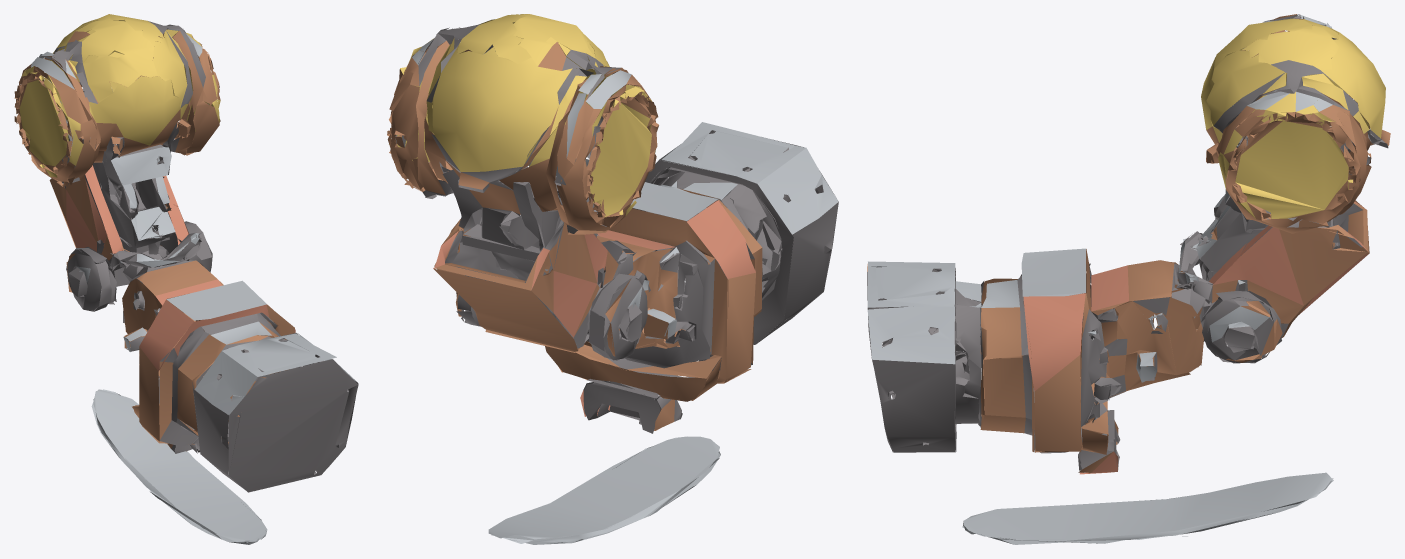
The model's file is ar_hammer.glb.
3 views of the same model, side by side, from view 1: azimuth 30°, elevation 25°; view 2: azimuth 150°, elevation 25°; view 3: azimuth 270°, elevation 25° (orthographic). The views are drawn at different scales.
Parts seen in each view (by area): view 1: ar_hammer; view 2: ar_hammer; view 3: ar_hammer.
Part boxes in pixels (x1,y1,x2,y2): ar_hammer: (14,14,358,544); ar_hammer: (387,14,838,544); ar_hammer: (867,14,1390,544).
Size of the model in its own units: 0.167 by 0.42 by 0.3957.
